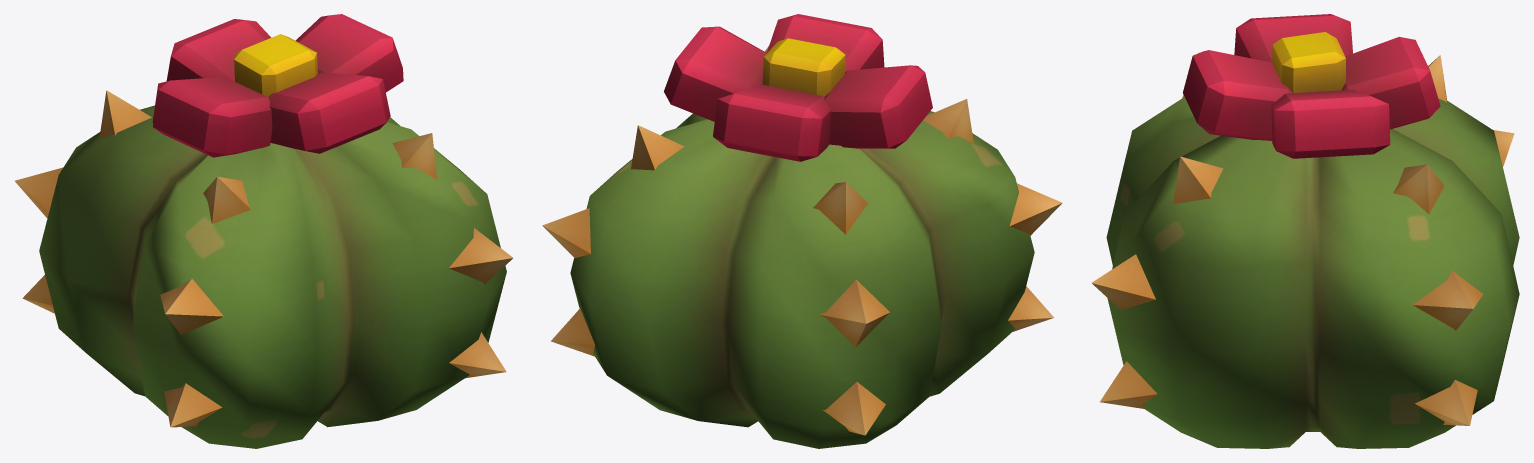
File: cactus_2.fbx
3 views of the same model, side by side, from view 1: azimuth 30°, elevation 25°; view 2: azimuth 150°, elevation 25°; view 3: azimuth 270°, elevation 25° (orthographic). The views are drawn at different scales.
Parts seen in each view (by area): view 1: cactus_2; view 2: cactus_2; view 3: cactus_2.
Part boxes in pixels (left/top/right/bottom): cactus_2: left=14, top=14, right=512, bottom=448; cactus_2: left=542, top=14, right=1062, bottom=448; cactus_2: left=1092, top=14, right=1519, bottom=448.
Size of the model in its own units: 77.76 by 72.33 by 75.09.
